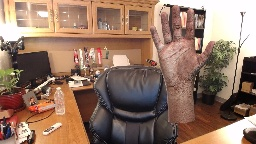Mano_aperta: (148, 3, 216, 87)
